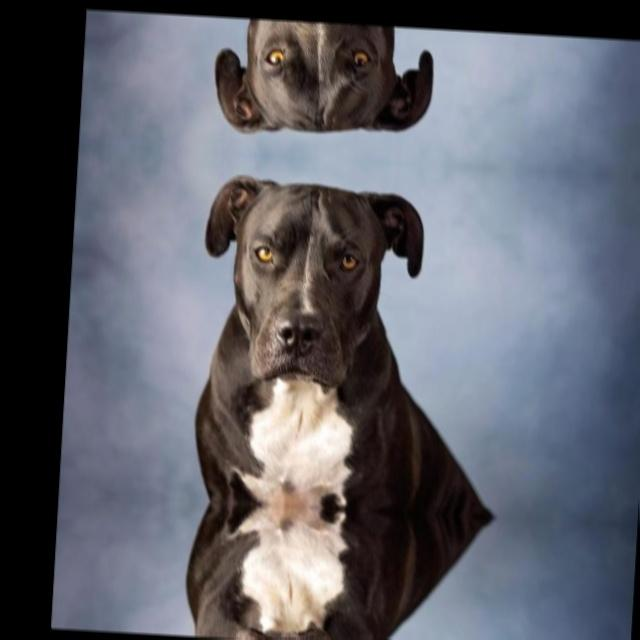dog: (186, 165, 440, 411), (201, 17, 448, 152), (172, 602, 414, 640)
